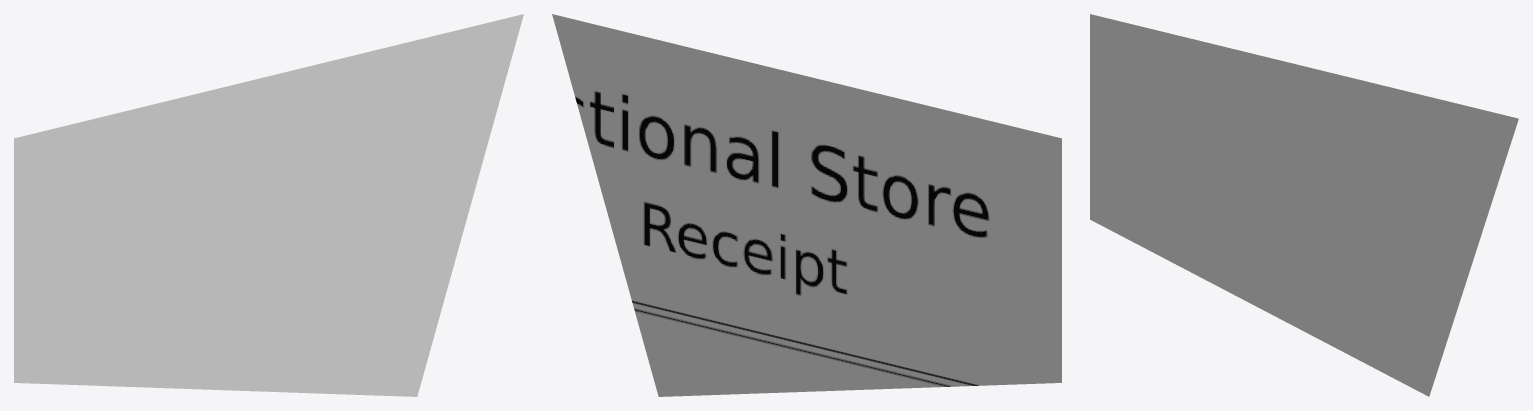
File: ReceiptPiece2.glb
3 renders of one model, left to right at view 1: azimuth 30°, elevation 25°; view 2: azimuth 150°, elevation 25°; view 3: azimuth 330°, elevation 25°, orthographic. The views are drawn at different scales.
Parts seen in each view (by area): view 1: Plane.003; view 2: Plane.003; view 3: Plane.003.
Boxes of the visible parts, bbox=[...] form: Plane.003: bbox=[14, 14, 523, 396]; Plane.003: bbox=[552, 14, 1061, 396]; Plane.003: bbox=[1090, 14, 1518, 396].
Size of the model in its own units: 0.1 by 0.0669 by 4.37e-09.
2 materials, 1 textured.
